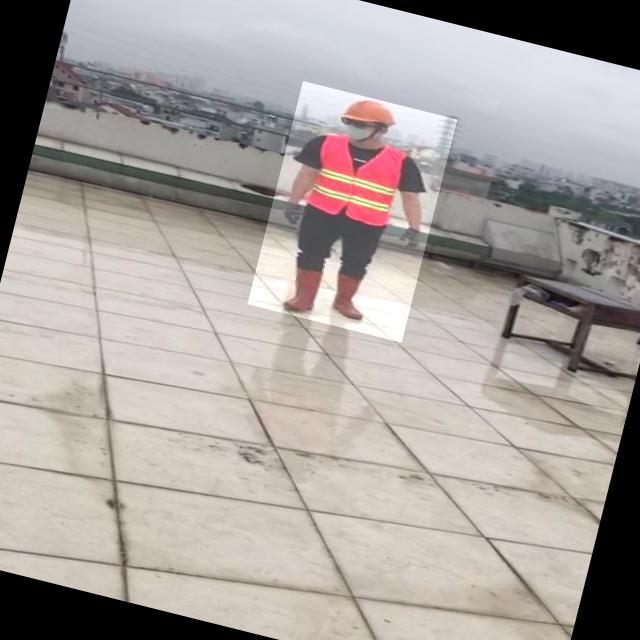Gloves: (281, 198, 308, 225), (398, 225, 425, 250)
Helmet: (343, 94, 402, 131)
Human: (247, 81, 458, 343)
Safety Boot: (328, 272, 375, 321), (283, 265, 328, 315)
Safety Vest: (307, 132, 407, 227)
